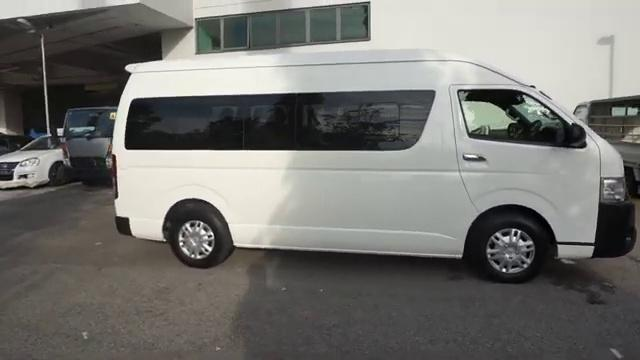Van: (101, 51, 631, 280)
